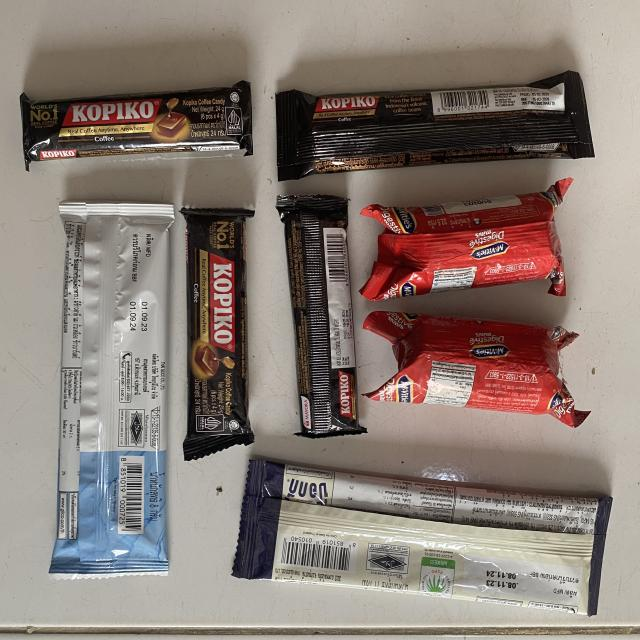plastik: (232, 460, 611, 615), (50, 202, 174, 578), (276, 71, 594, 180), (360, 179, 571, 301), (365, 312, 585, 426), (276, 195, 366, 438), (20, 81, 252, 170), (181, 208, 255, 460)
